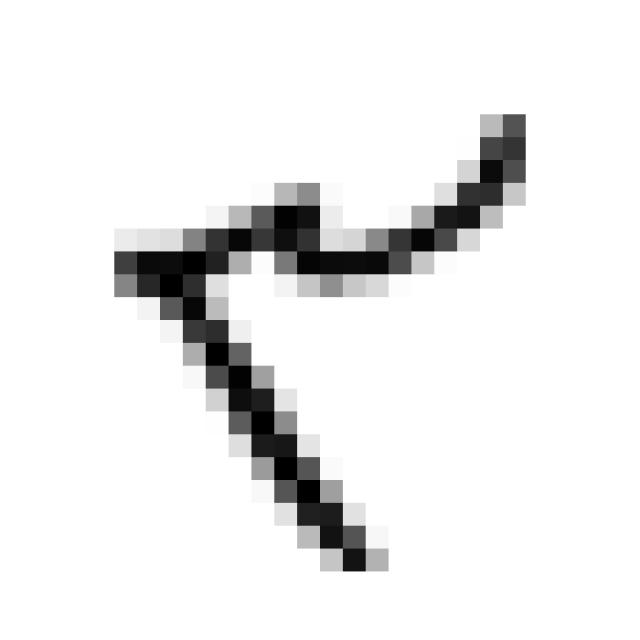3 -three-: (96, 96, 542, 595)
